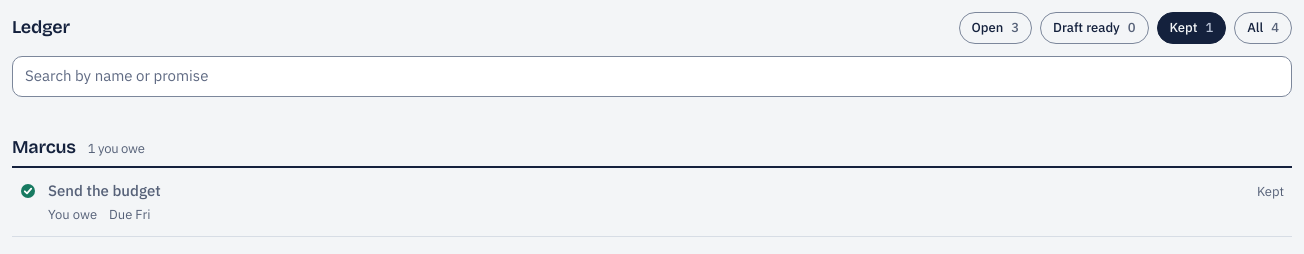
Test case: Ledger search › explains an empty result and points to the All filter when it is only the status hiding it
Type "priya" into the search field. click: [652, 76]
box: [12, 56, 1292, 96]
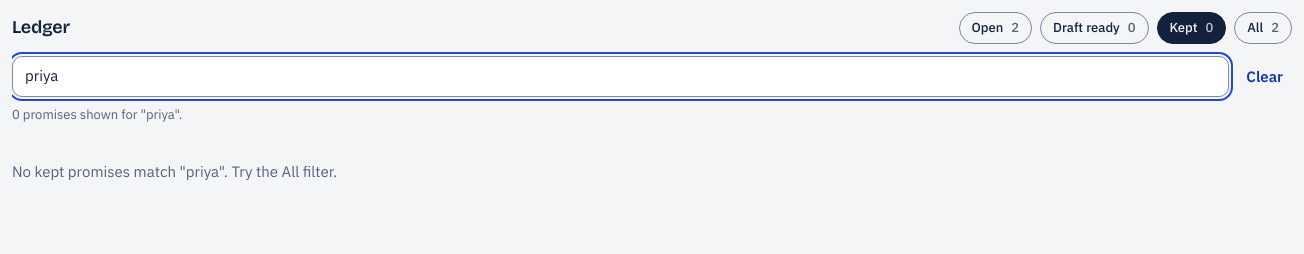
Result: the text "No kept promises match \"priya\". Try the All filter." is shown at [12, 162, 337, 180]
Clear the search field. click: [621, 76]
box: [12, 56, 1229, 96]
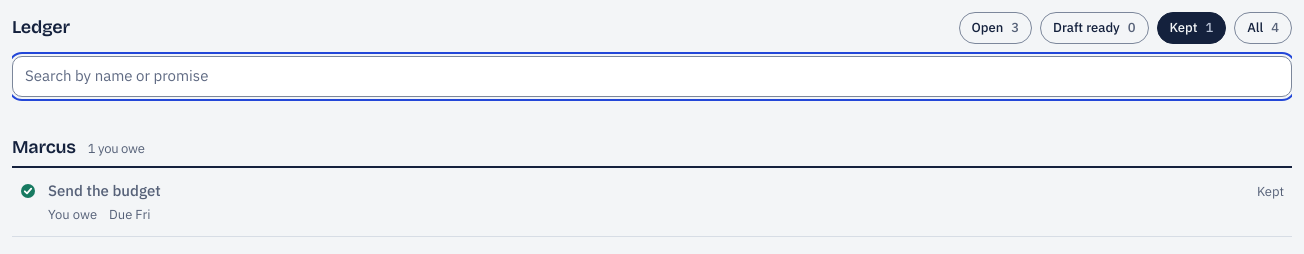
Type "zzz" into the search field. click: [652, 76]
box: [12, 56, 1292, 96]
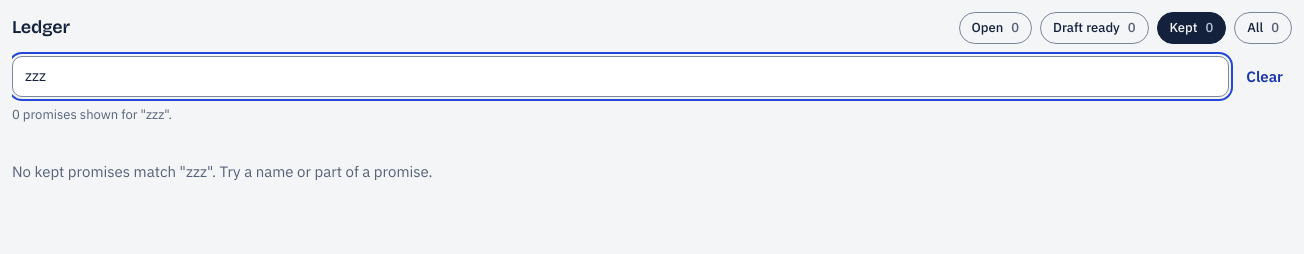
Result: the text "Try a name or part of a promise" is shown at [12, 162, 433, 180]
